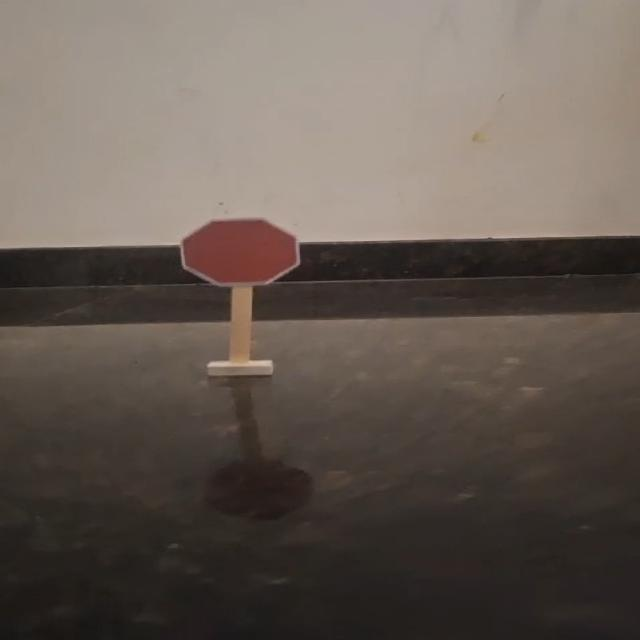Stop: (157, 207, 322, 296)
